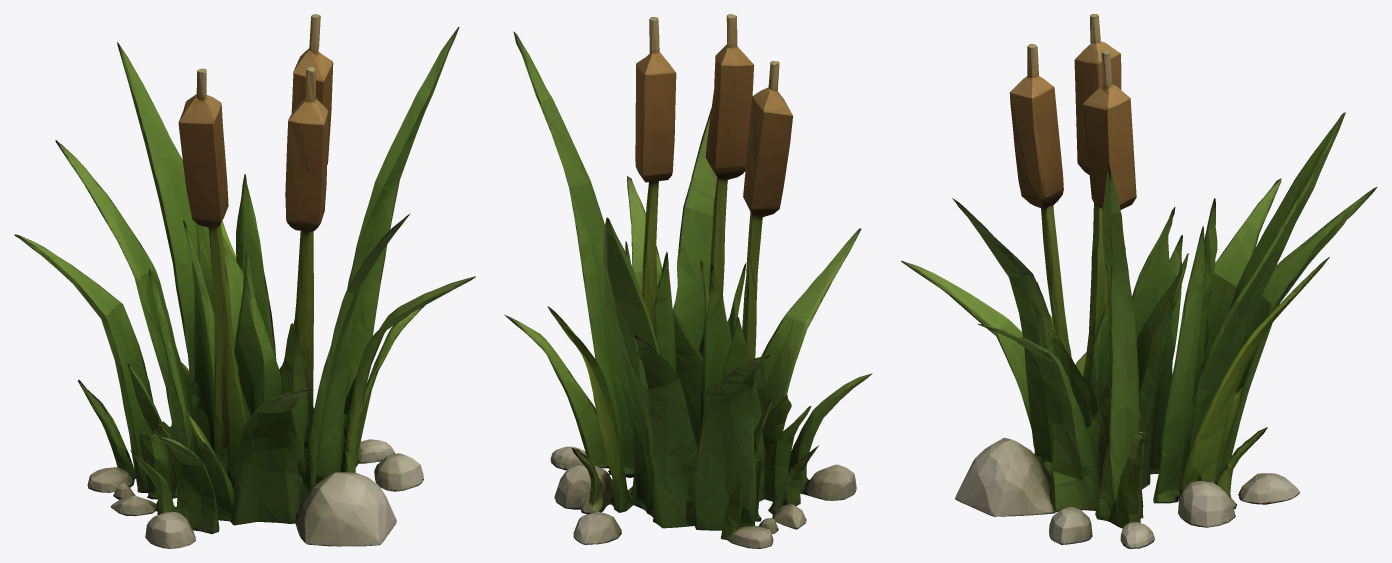
File: river_reed.glb
The picture shows the model from 3 angles, left to right: view 1: azimuth 30°, elevation 25°; view 2: azimuth 150°, elevation 25°; view 3: azimuth 270°, elevation 25°; orthographic projection. The views are drawn at different scales.
Parts seen in each view (by area): view 1: world; view 2: world; view 3: world.
Part boxes in pixels (<box>): world: <box>14,14,475,548</box>; world: <box>504,14,872,548</box>; world: <box>901,14,1377,548</box>.
Size of the model in its own units: 0.7638 by 0.9616 by 0.9152.
Materials: 1 (1 with a texture image).
